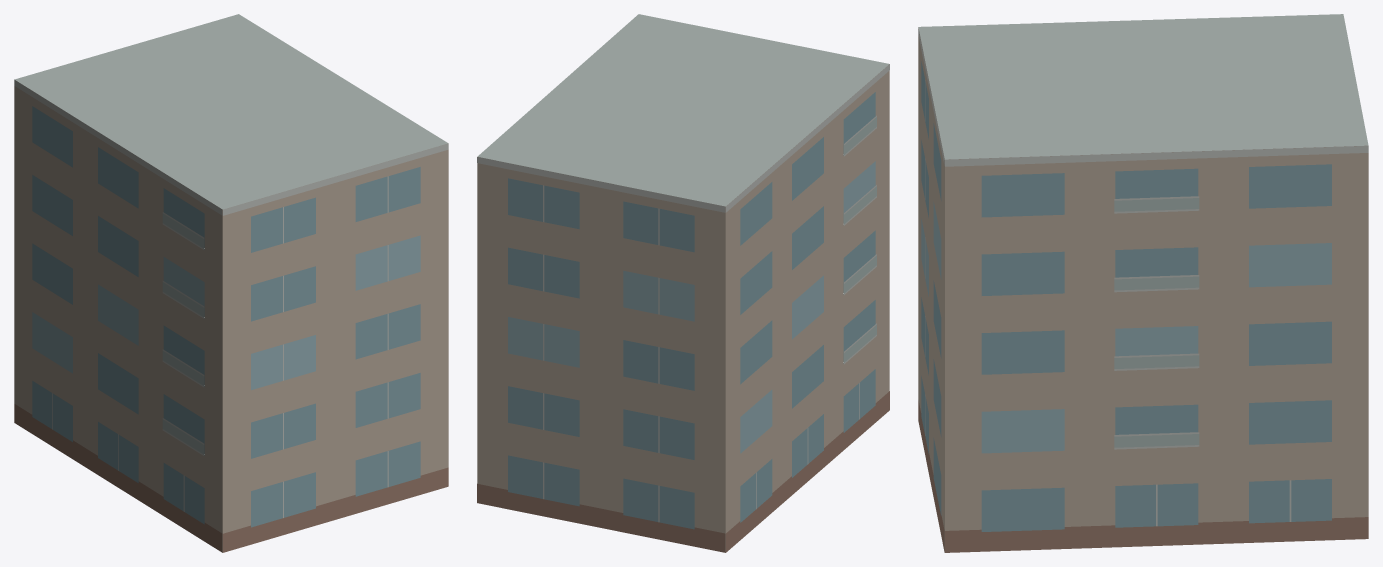
File: survey-upis-32917464.glb
3 renders of one model, left to right at view 1: azimuth 30°, elevation 25°; view 2: azimuth 150°, elevation 25°; view 3: azimuth 270°, elevation 25°, orthographic. The views are drawn at different scales.
Visible parts, largest first — view 1: survey-upis-32917464.tmp; view 2: survey-upis-32917464.tmp; view 3: survey-upis-32917464.tmp.
Boxes of the visible parts, x1,y1,x2,y2 form: survey-upis-32917464.tmp: (14, 14, 448, 552); survey-upis-32917464.tmp: (477, 14, 889, 552); survey-upis-32917464.tmp: (918, 14, 1368, 552).
Size of the model in its own units: 10.57 by 13.3 by 13.81.
